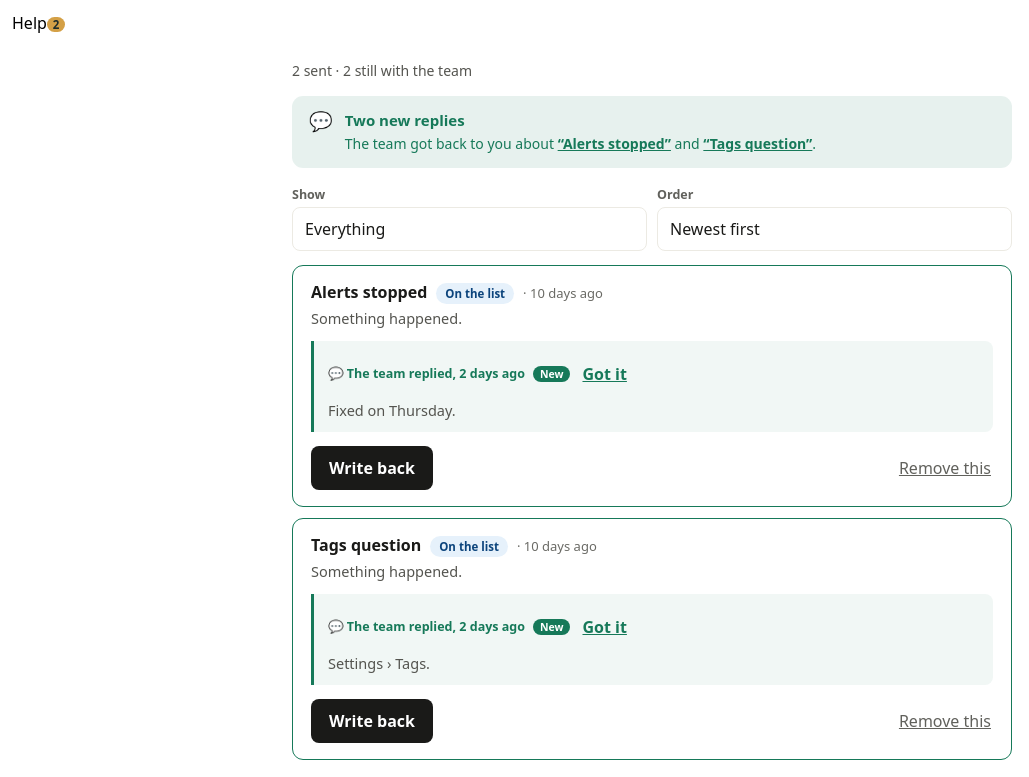
reading a reply clears it and the badge drops › a reload after reading still shows the lower count — it is the server, not the screen
The image size is (1029, 777).
Click the 1st button "Got it" at (605, 374), box [576,352,633,396]
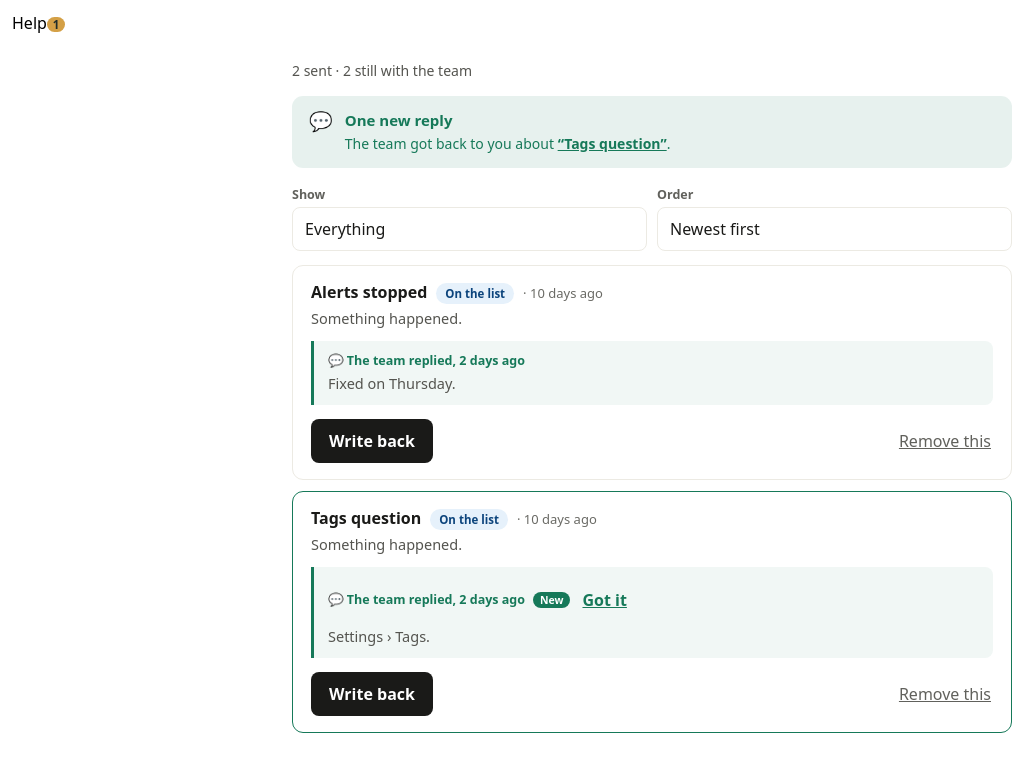
Result: the text "1" is shown at [47,17,66,32]
